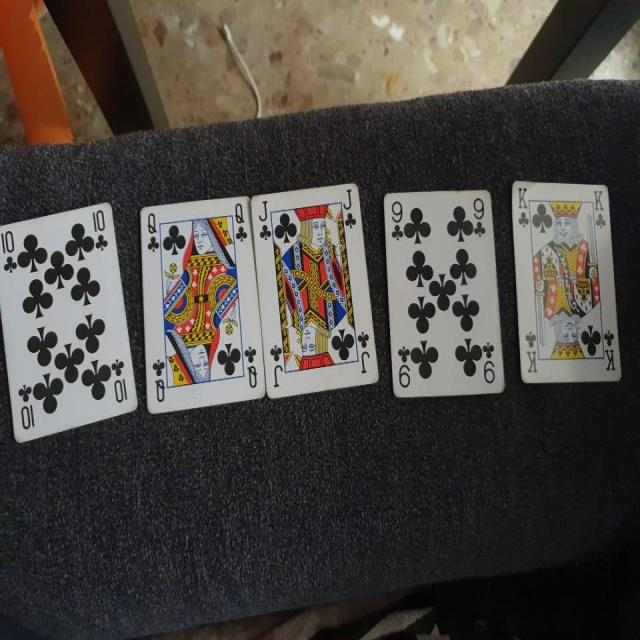10 Trefoils: (1, 198, 137, 443)
9 Trefoils: (382, 188, 507, 401)
J Trefoils: (248, 178, 381, 400)
K Trefoils: (511, 176, 624, 384)
Q Trefoils: (138, 195, 266, 414)
